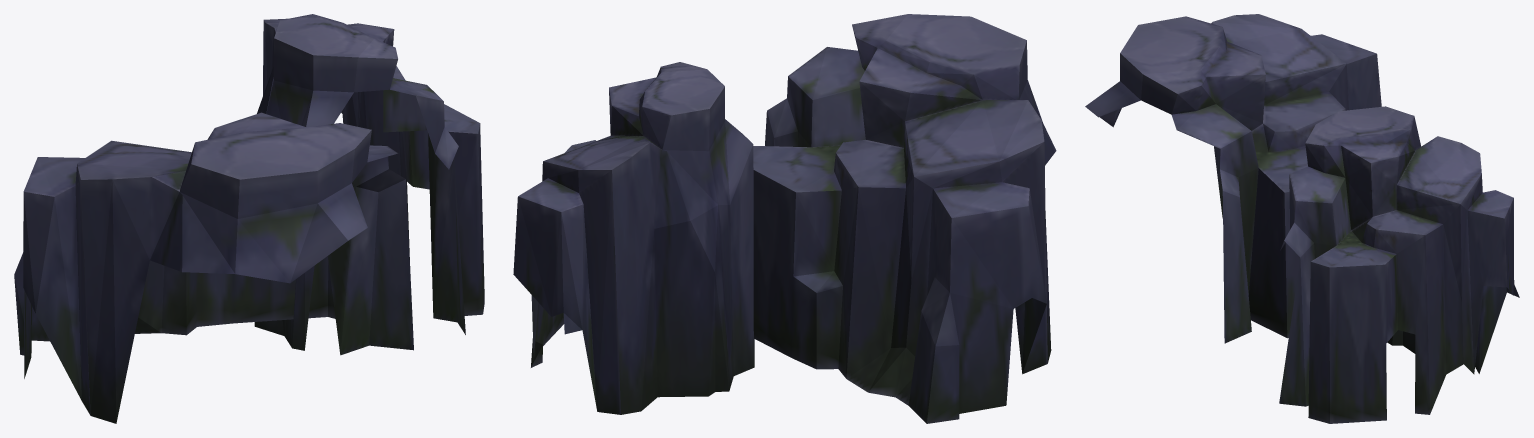
File: Area05_13.fbx
3 renders of one model, left to right at view 1: azimuth 30°, elevation 25°; view 2: azimuth 150°, elevation 25°; view 3: azimuth 270°, elevation 25°, orthographic. The views are drawn at different scales.
Parts seen in each view (by area): view 1: Area05_13; view 2: Area05_13; view 3: Area05_13.
Part boxes in pixels (bbox=[...]): Area05_13: bbox=[14, 14, 484, 423]; Area05_13: bbox=[513, 14, 1056, 423]; Area05_13: bbox=[1085, 14, 1519, 423].
Size of the model in its own units: 6228 by 3696 by 5834.
